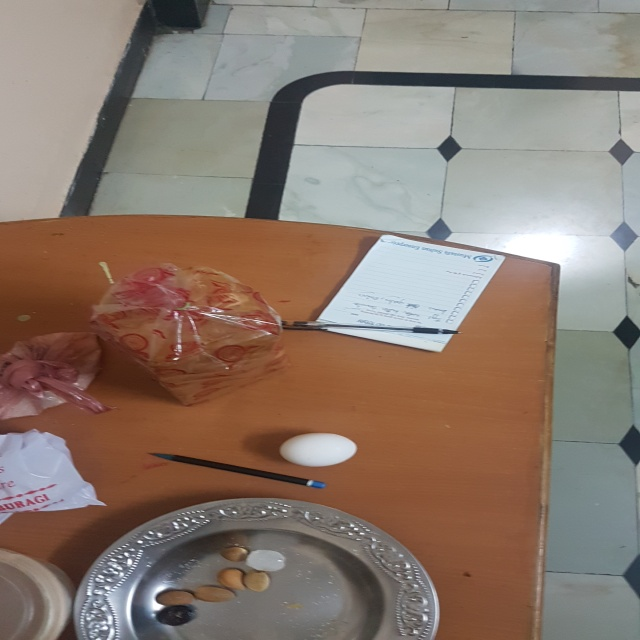eggs: (279, 431, 360, 467)
